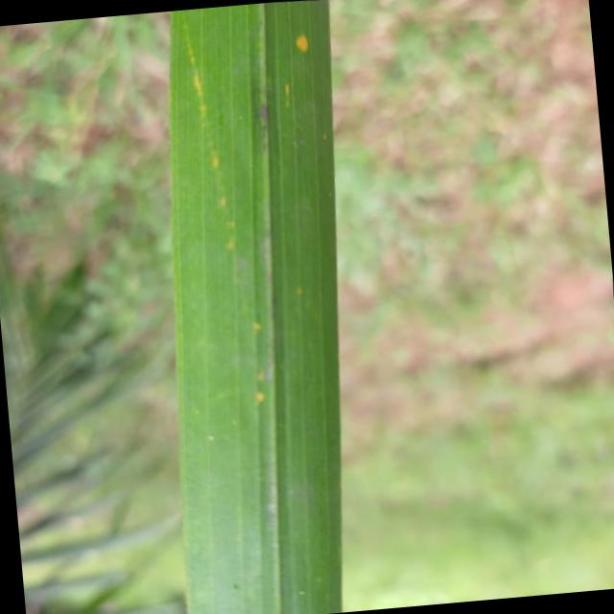Kalium: (166, 5, 346, 614)
